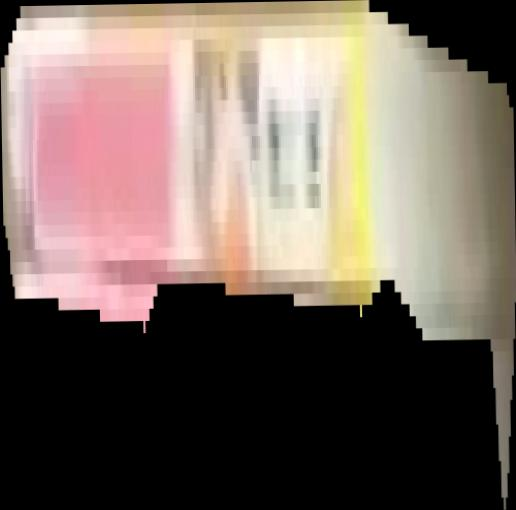flat: (1, 1, 516, 510)
